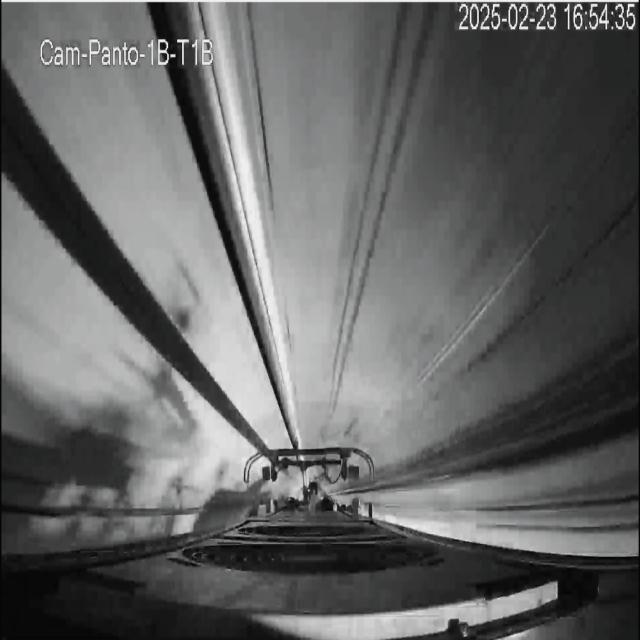Camera Stamp: (40, 32, 220, 70)
Date Stamp: (457, 3, 636, 33)
No - Spark: (267, 375, 375, 478), (244, 443, 375, 512)
